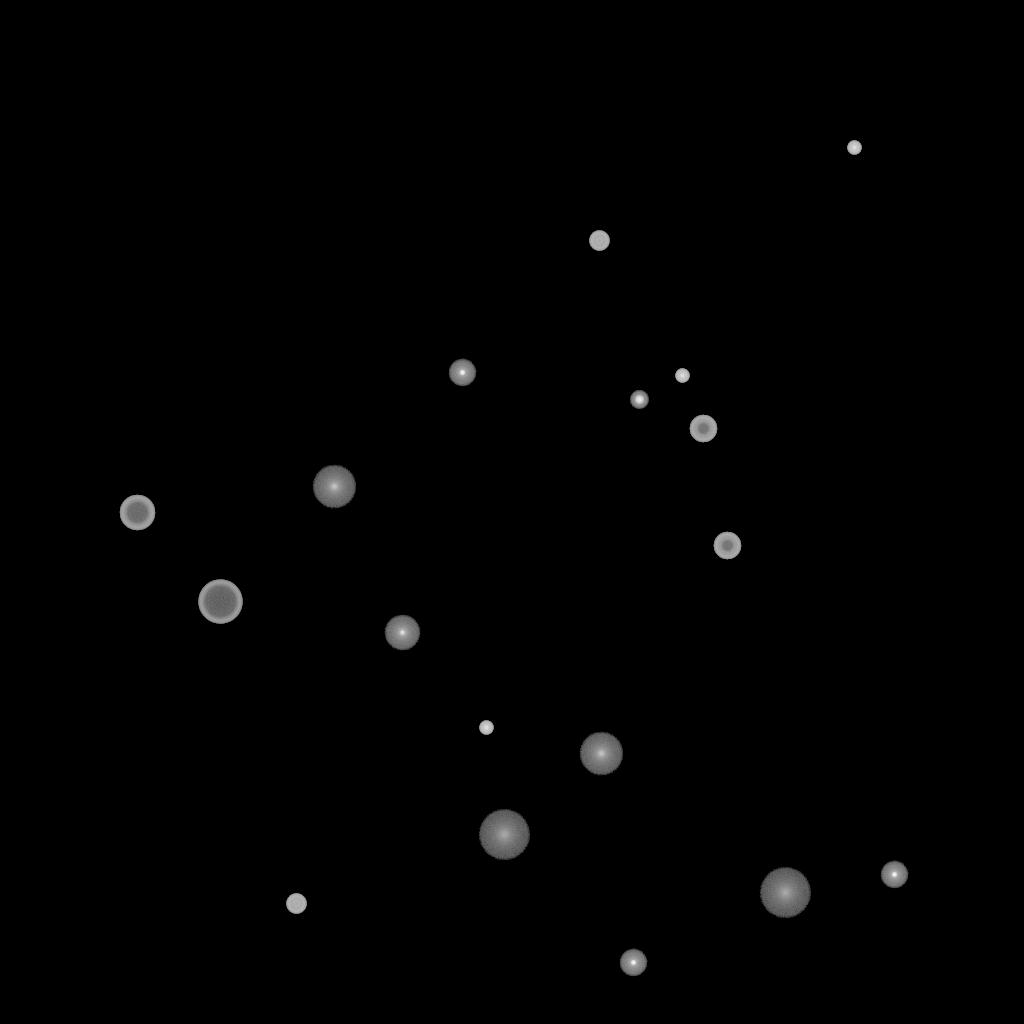depth:-10: (880, 861, 908, 889), (448, 359, 476, 387), (619, 949, 647, 977)
depth:-20: (630, 391, 648, 409)
depth:-30: (675, 369, 689, 383), (847, 141, 861, 155), (479, 721, 493, 735)
depth:-40: (286, 894, 306, 914), (589, 231, 609, 251)
depth:-50: (713, 532, 741, 560), (689, 415, 717, 443)
depth:-60: (119, 495, 155, 531)
depth:-70: (198, 580, 242, 624)
depth:0: (384, 615, 420, 651)
depth:10: (579, 732, 623, 776), (312, 465, 356, 509)
depth:20: (478, 810, 530, 860), (759, 868, 811, 918)
